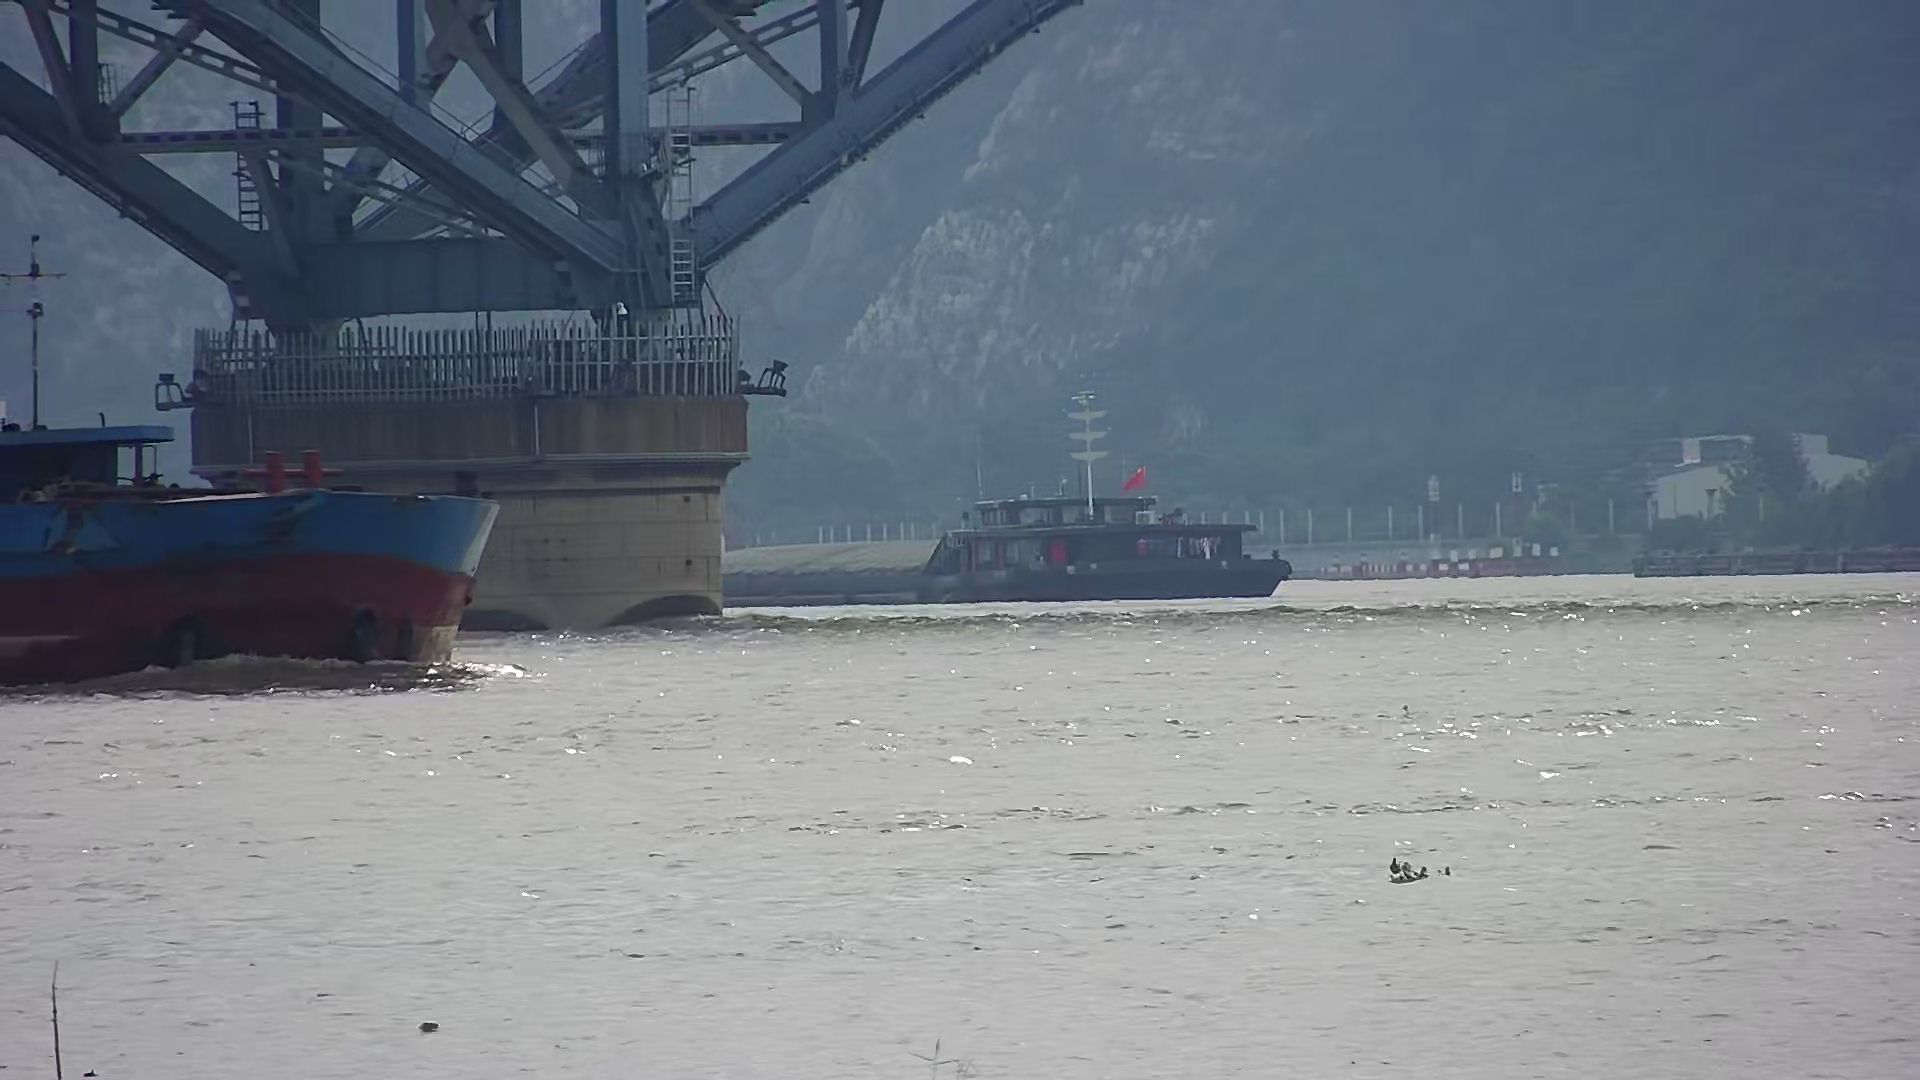bridge: (1, 1, 1084, 655)
rubbish: (1356, 841, 1460, 899)
ship: (1, 406, 512, 696), (727, 459, 1296, 607)
